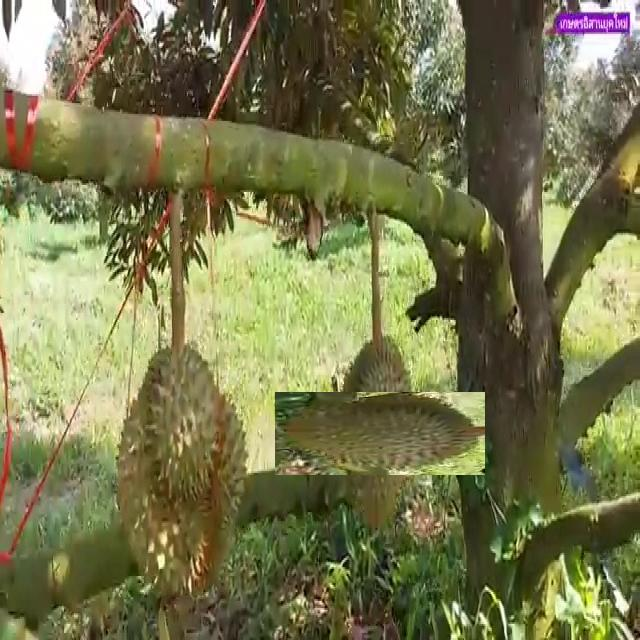durian: (112, 338, 251, 619), (306, 360, 453, 507)
